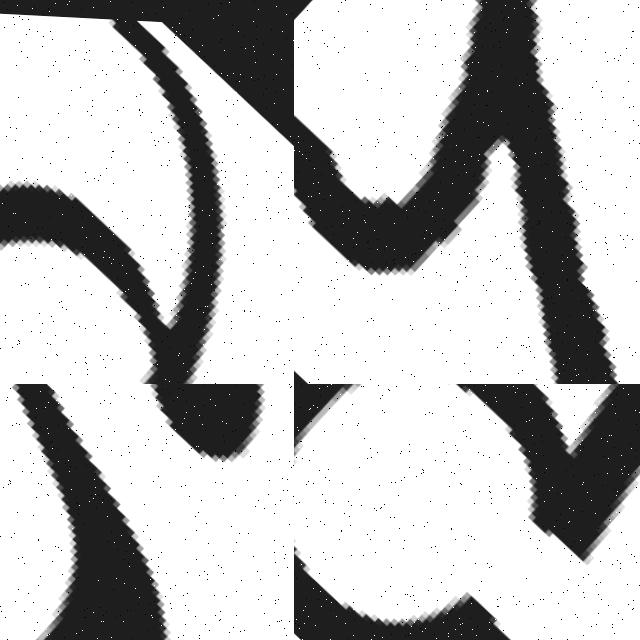5: (294, 384, 640, 640)
6: (0, 0, 294, 384)
A: (0, 384, 294, 640)
U: (294, 0, 640, 384)
